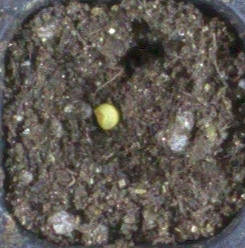chilli seed: (94, 104, 119, 129)
